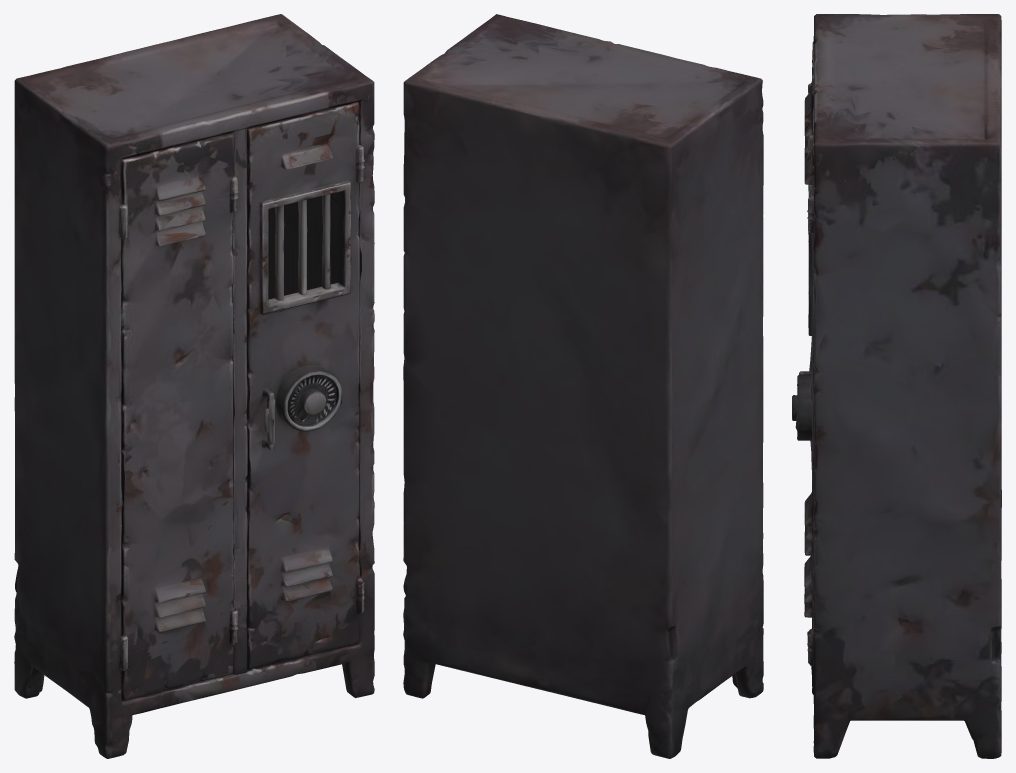
File: prison_armory_locker_b.glb
3 renders of one model, left to right at view 1: azimuth 30°, elevation 25°; view 2: azimuth 150°, elevation 25°; view 3: azimuth 270°, elevation 25°, orthographic.
Visible parts, largest first — view 1: body, door_l, door_r; view 2: body; view 3: body, door_r, door_l.
Boxes of the visible parts, left/top/right/bottom form: body: left=14, top=14, right=374, bottom=758; door_l: left=117, top=128, right=240, bottom=696; door_r: left=240, top=98, right=364, bottom=666; body: left=403, top=14, right=763, bottom=758; body: left=809, top=14, right=1001, bottom=758; door_r: left=792, top=93, right=813, bottom=690; door_l: left=804, top=41, right=813, bottom=555.
Size of the model in its own units: 0.8864 by 1.9 by 0.5874.
Materials: 3 (3 with a texture image).
